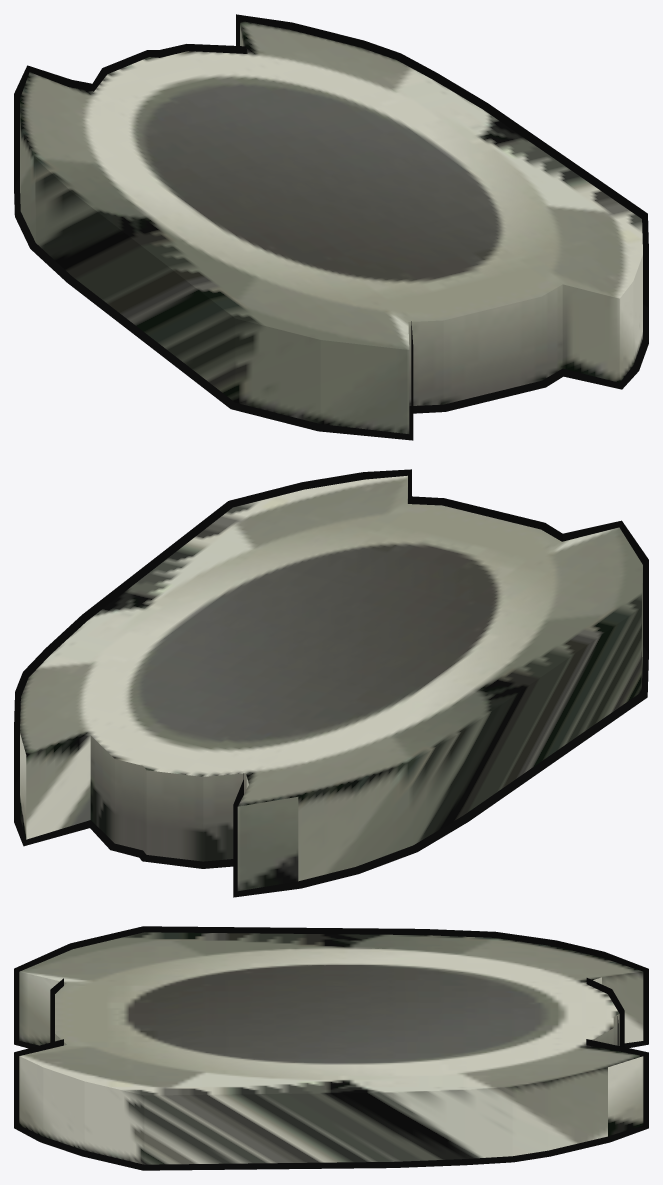
Rendered from Building_Turret_AutoInferno_Things_Building_Mech_TurretMechLarge_Base.glb.
3 renders of one model, top to bottom at view 1: azimuth 30°, elevation 25°; view 2: azimuth 150°, elevation 25°; view 3: azimuth 270°, elevation 25°, orthographic. The views are drawn at different scales.
Parts seen in each view (by area): view 1: Body, Outline; view 2: Body, Outline; view 3: Body, Outline.
Part boxes in pixels (x1,y1,x2,y2): Body: (20,21,642,433); Outline: (14,14,648,440); Body: (20,475,642,891); Outline: (14,469,648,897); Body: (19,932,643,1164); Outline: (14,926,648,1170).
Bounding box in the file's own units: 0.9292 × 0.2082 × 1.49.
2 materials, 1 textured.
